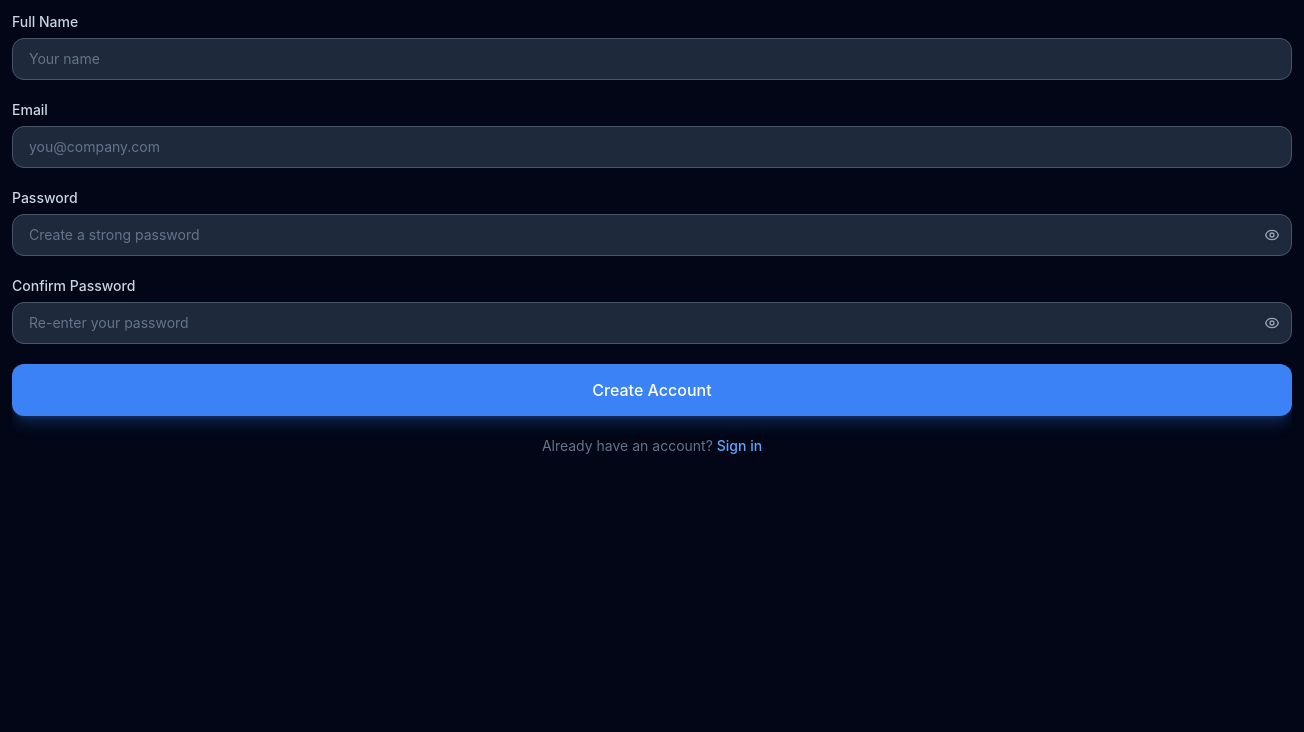
Test: SignupForm › shows validation errors on empty submit
Step 1. Click the button "Create Account" → [652, 390], box [12, 364, 1292, 416]
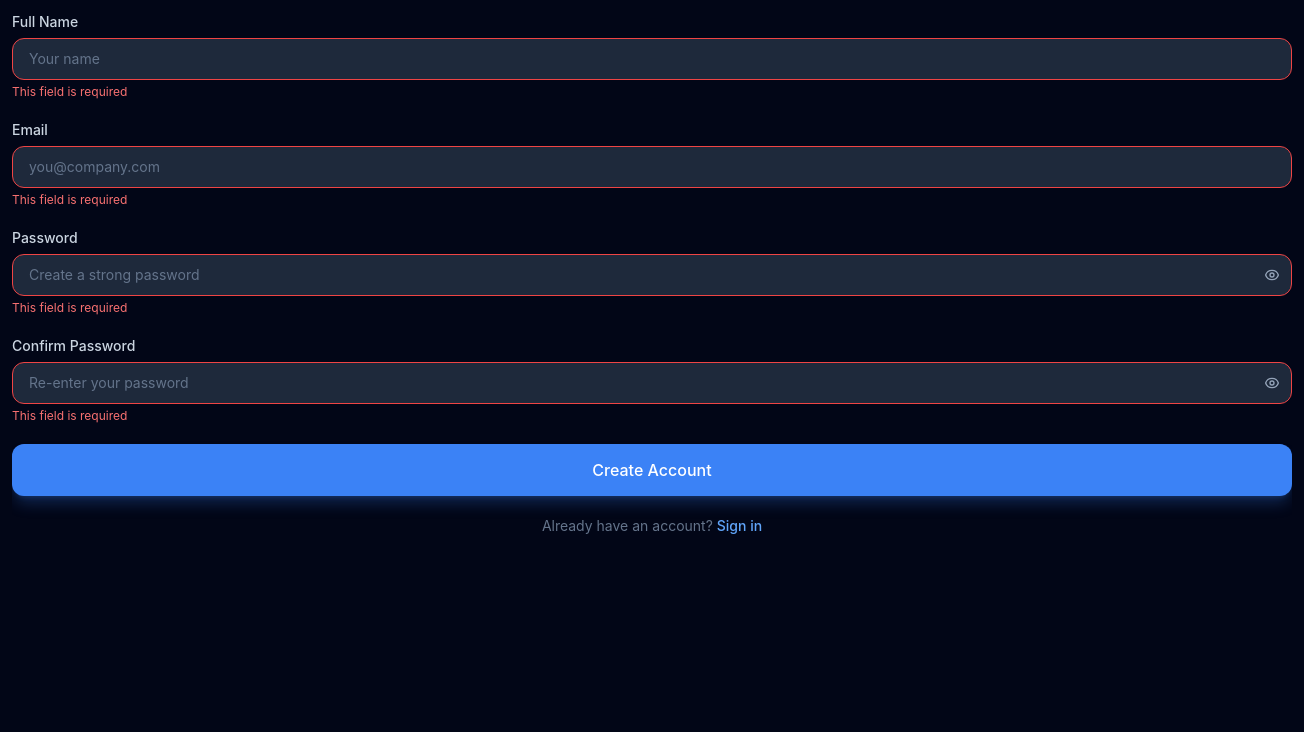
Check: the text "This field is required" below "Full Name" is shown, box [12, 84, 127, 99]
